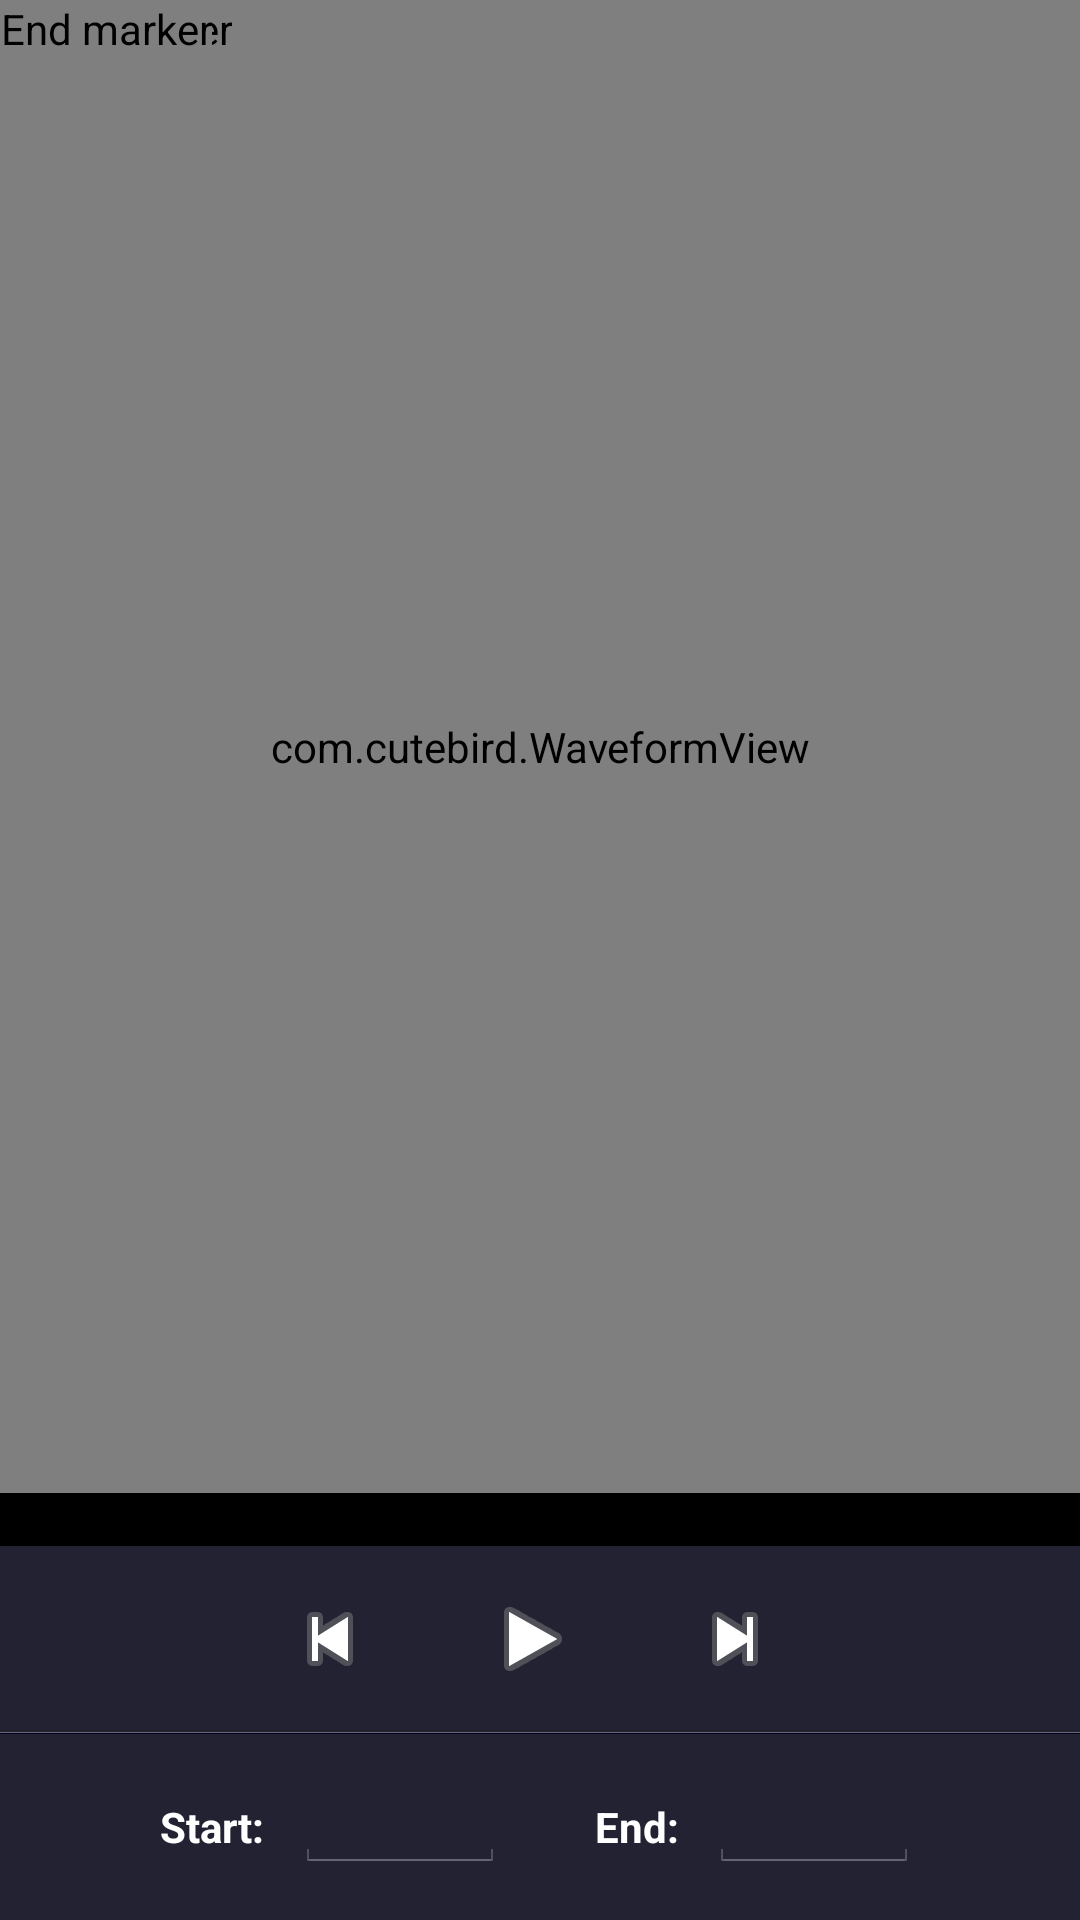

Named icons in this screenshot (1080w x 1920h) and their bounding boxes, (x1, y1, x2, y2):
Fast forward: (712, 1612, 758, 1666)
Play: (504, 1607, 562, 1671)
Rewind: (307, 1612, 353, 1666)
